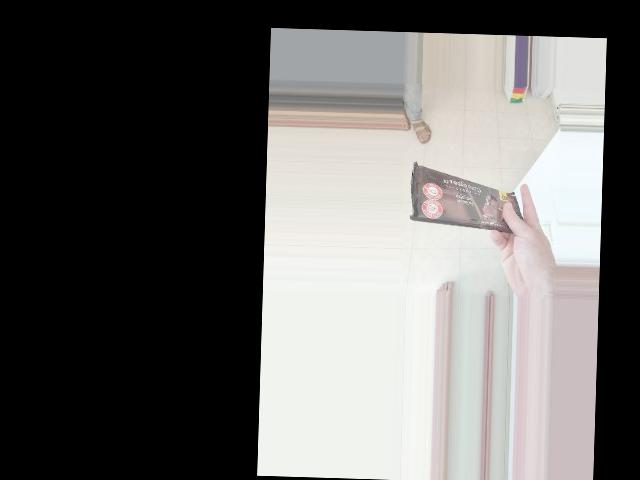chocolate: (405, 159, 533, 239)
